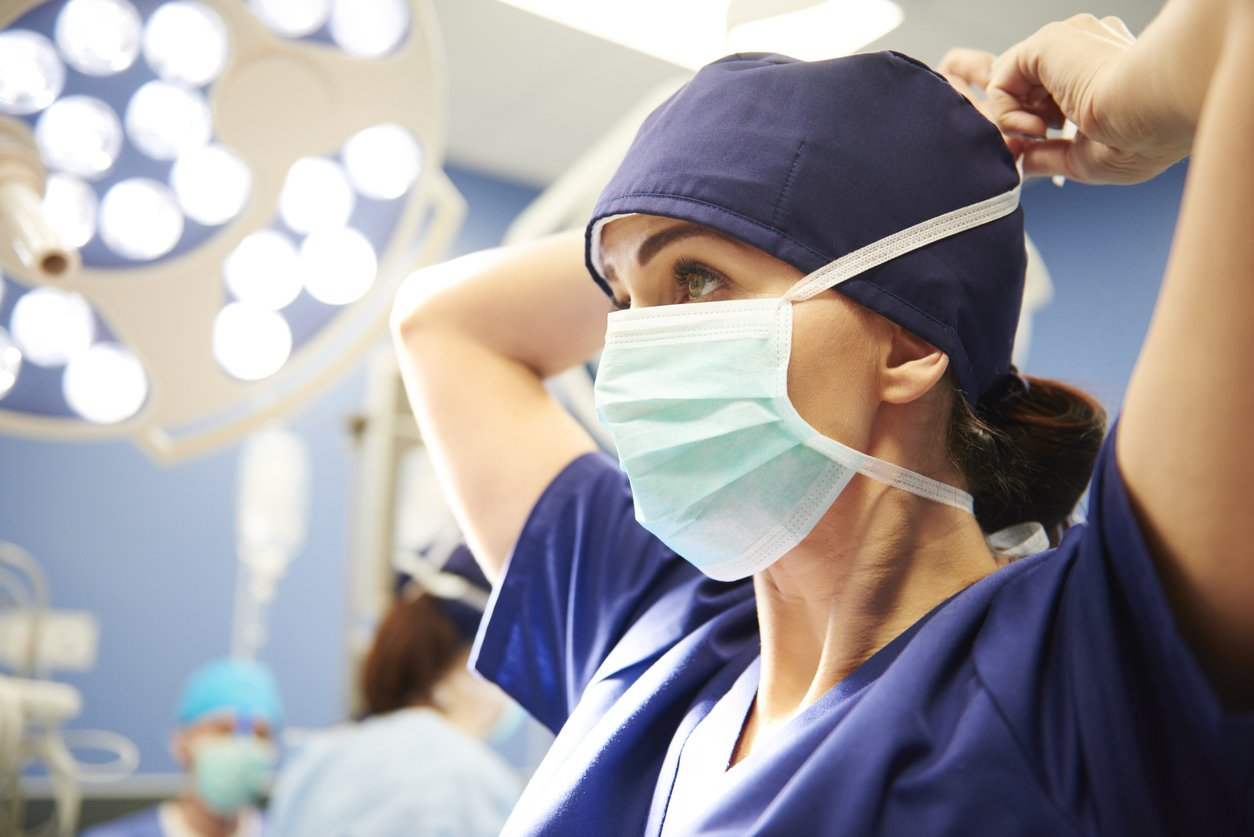surgical: (583, 284, 888, 582)
